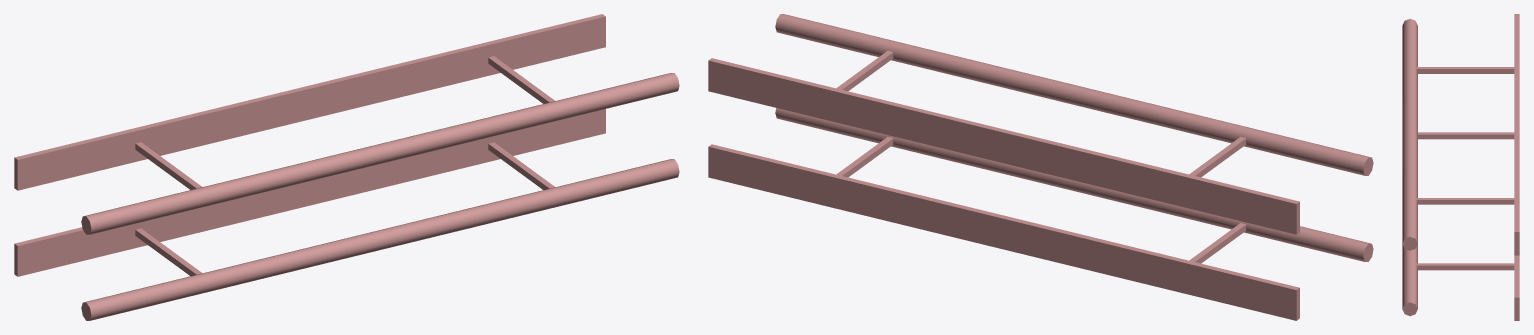
File: Rails.FBX
3 renders of one model, left to right at view 1: azimuth 30°, elevation 25°; view 2: azimuth 150°, elevation 25°; view 3: azimuth 270°, elevation 25°, orthographic. The views are drawn at different scales.
Parts seen in each view (by area): view 1: Rails; view 2: Rails; view 3: Rails.
Part boxes in pixels (x1,y1,x2,y2): Rails: (14, 14, 679, 320); Rails: (708, 14, 1373, 320); Rails: (1402, 14, 1519, 320).
Bounding box in the file's own units: 100 × 19 × 22.71.
